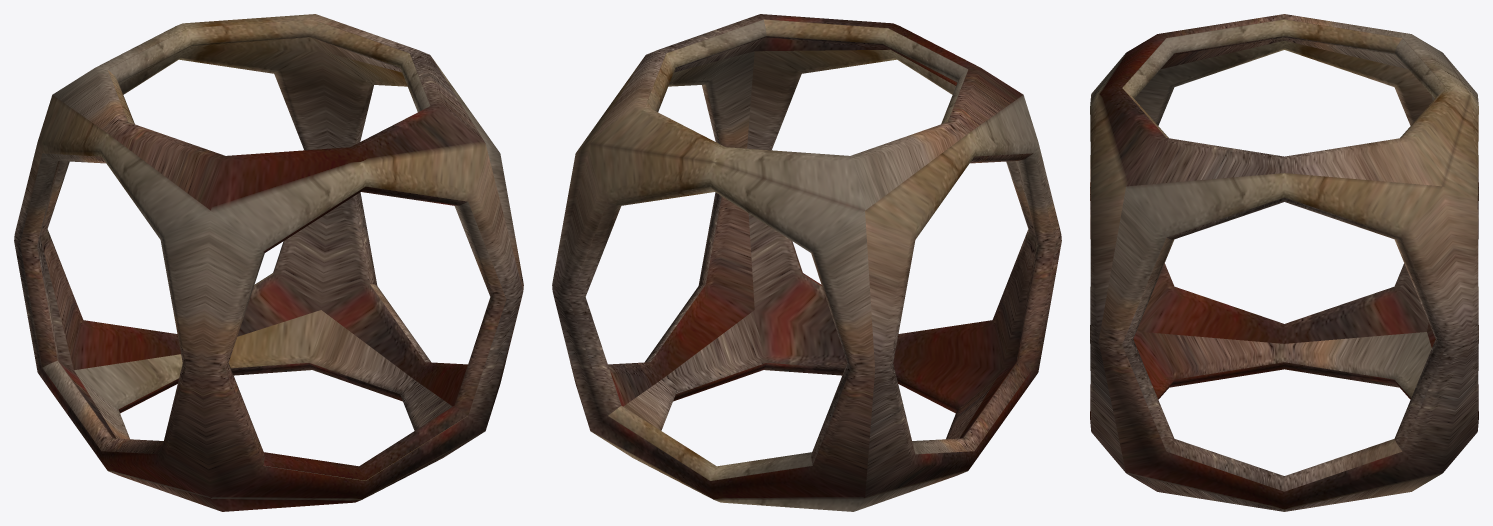
Rendered from frame_box.fbx.
The picture shows the model from 3 angles, left to right: view 1: azimuth 30°, elevation 25°; view 2: azimuth 150°, elevation 25°; view 3: azimuth 270°, elevation 25°; orthographic projection.
Parts seen in each view (by area): view 1: Cube; view 2: Cube; view 3: Cube.
Boxes of the visible parts, x1=… form: Cube: x1=14, y1=14, x2=523, y2=511; Cube: x1=552, y1=14, x2=1061, y2=511; Cube: x1=1090, y1=14, x2=1478, y2=511.
Size of the model in its own units: 1138 by 1138 by 1138.
